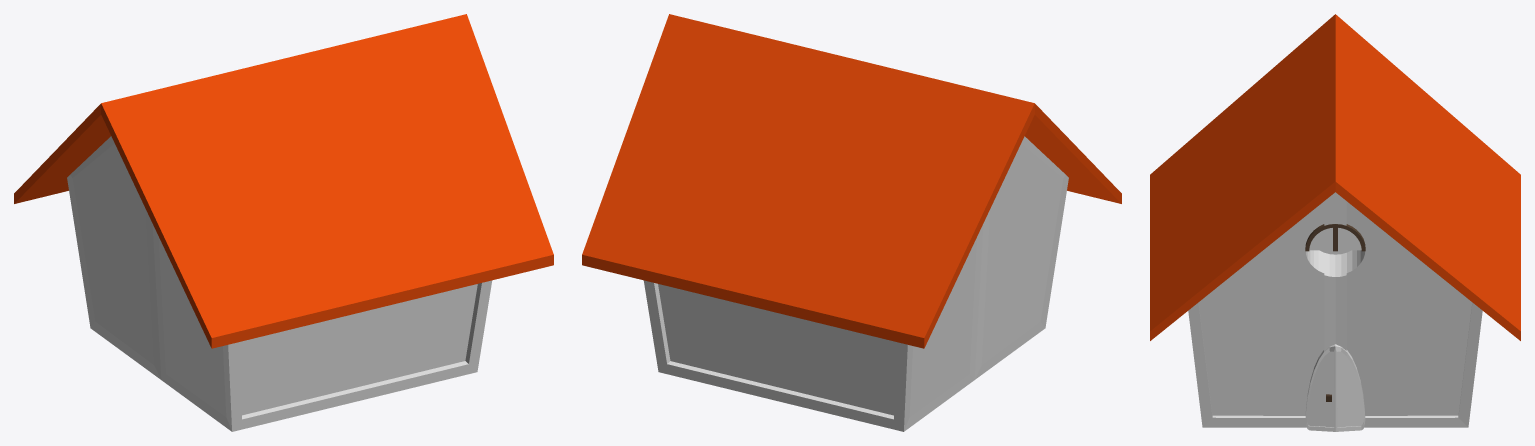
Rendered from house.gltf.
3 renders of one model, left to right at view 1: azimuth 30°, elevation 25°; view 2: azimuth 150°, elevation 25°; view 3: azimuth 270°, elevation 25°, orthographic. The views are drawn at different scales.
Visible parts, largest first — view 1: Cube.001, Cube; view 2: Cube.001, Cube; view 3: Cube.001, Cube, Cylinder, Cylinder.001, Cylinder.002.
Boxes of the visible parts, bbox=[...] form: Cube.001: bbox=[14, 14, 553, 348]; Cube: bbox=[67, 136, 492, 431]; Cube.001: bbox=[582, 14, 1121, 348]; Cube: bbox=[643, 136, 1068, 431]; Cube.001: bbox=[1150, 14, 1520, 340]; Cube: bbox=[1188, 192, 1482, 427]; Cylinder: bbox=[1305, 344, 1365, 431]; Cylinder.001: bbox=[1309, 228, 1361, 250]; Cylinder.002: bbox=[1305, 224, 1365, 251].
Bounding box in the file's own units: 13.13 × 10 × 12.29.
